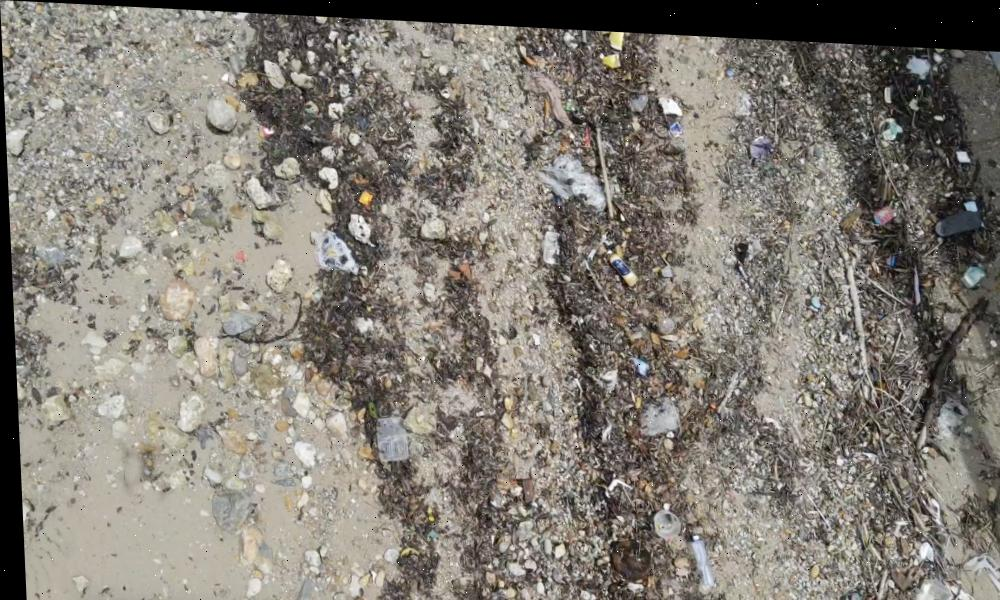plastic bottle: (683, 517, 709, 588), (603, 240, 634, 279)
